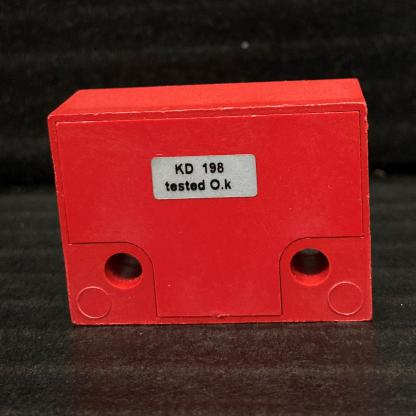SP0000001: (23, 57, 401, 351)
